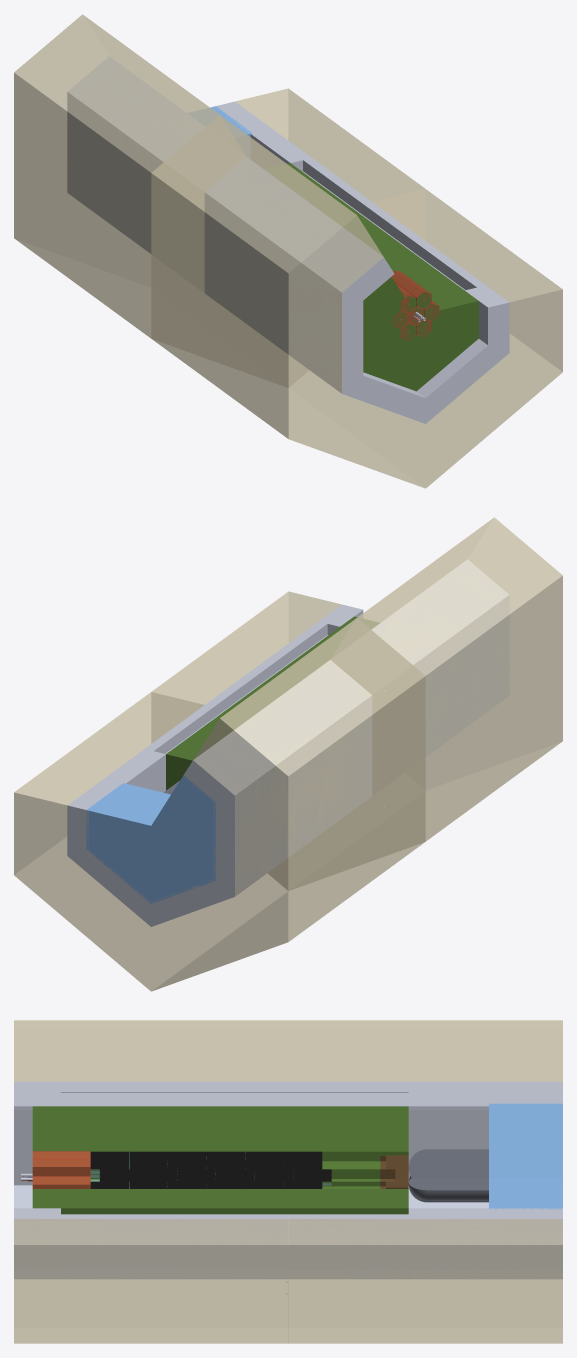
Rendered from StarCore lower core 2 Part Lower Core.obj.
3 views of the same model, one above another, from view 1: azimuth 30°, elevation 25°; view 2: azimuth 150°, elevation 25°; view 3: azimuth 270°, elevation 25° (orthographic).
Parts seen in each view (by area): view 1: OuterShell_Top, OuterShell_Bottom, CavityLiner_Top, CavityLiner_Bottom, TopReflector_Top, SideReflector_Top, SideReflector_Bottom, LowerPlenum_Bottom, UpperReflectorPlug_Top; view 2: OuterShell_Bottom, OuterShell_Top, CavityLiner_Bottom, CavityLiner_Top, LowerPlenum_Bottom, SideReflector_Top, SideReflector_Bottom; view 3: OuterShell_Bottom, OuterShell_Top, CavityLiner_Bottom, CavityLiner_Top, SideReflector_Top, SideReflector_Bottom, LowerPlenum_Bottom, FuelBundles_Top, BottomReflector_Bottom, SupportPosts_Bottom, TopReflector_Top, FuelBundles_Bottom (+6 smaller).
Part boxes in pixels (x1=…): OuterShell_Top: x1=151, y1=115, x2=562, y2=488; OuterShell_Bottom: x1=14, y1=14, x2=425, y2=387; CavityLiner_Top: x1=205, y1=157, x2=509, y2=423; CavityLiner_Bottom: x1=67, y1=56, x2=371, y2=253; TopReflector_Top: x1=363, y1=277, x2=478, y2=391; SideReflector_Top: x1=326, y1=207, x2=463, y2=297; SideReflector_Bottom: x1=266, y1=163, x2=350, y2=212; LowerPlenum_Bottom: x1=188, y1=106, x2=251, y2=157; UpperReflectorPlug_Top: x1=393, y1=298, x2=439, y2=340; OuterShell_Bottom: x1=14, y1=618, x2=425, y2=991; OuterShell_Top: x1=151, y1=517, x2=562, y2=890; CavityLiner_Bottom: x1=67, y1=660, x2=371, y2=926; CavityLiner_Top: x1=205, y1=559, x2=509, y2=756; LowerPlenum_Bottom: x1=86, y1=775, x2=215, y2=903; SideReflector_Top: x1=226, y1=627, x2=342, y2=715; SideReflector_Bottom: x1=166, y1=710, x2=250, y2=790; OuterShell_Bottom: x1=288, y1=1020, x2=562, y2=1343; OuterShell_Top: x1=14, y1=1020, x2=288, y2=1343; CavityLiner_Bottom: x1=288, y1=1081, x2=562, y2=1278; CavityLiner_Top: x1=14, y1=1081, x2=288, y2=1278; SideReflector_Top: x1=61, y1=1106, x2=288, y2=1214; SideReflector_Bottom: x1=288, y1=1106, x2=408, y2=1214; LowerPlenum_Bottom: x1=489, y1=1103, x2=562, y2=1209; FuelBundles_Top: x1=90, y1=1151, x2=288, y2=1188; BottomReflector_Bottom: x1=322, y1=1106, x2=380, y2=1214; SupportPosts_Bottom: x1=408, y1=1149, x2=488, y2=1202; TopReflector_Top: x1=32, y1=1106, x2=90, y2=1214; FuelBundles_Bottom: x1=288, y1=1151, x2=331, y2=1188.
Size of the model in its own units: 815 by 823 by 1412.
